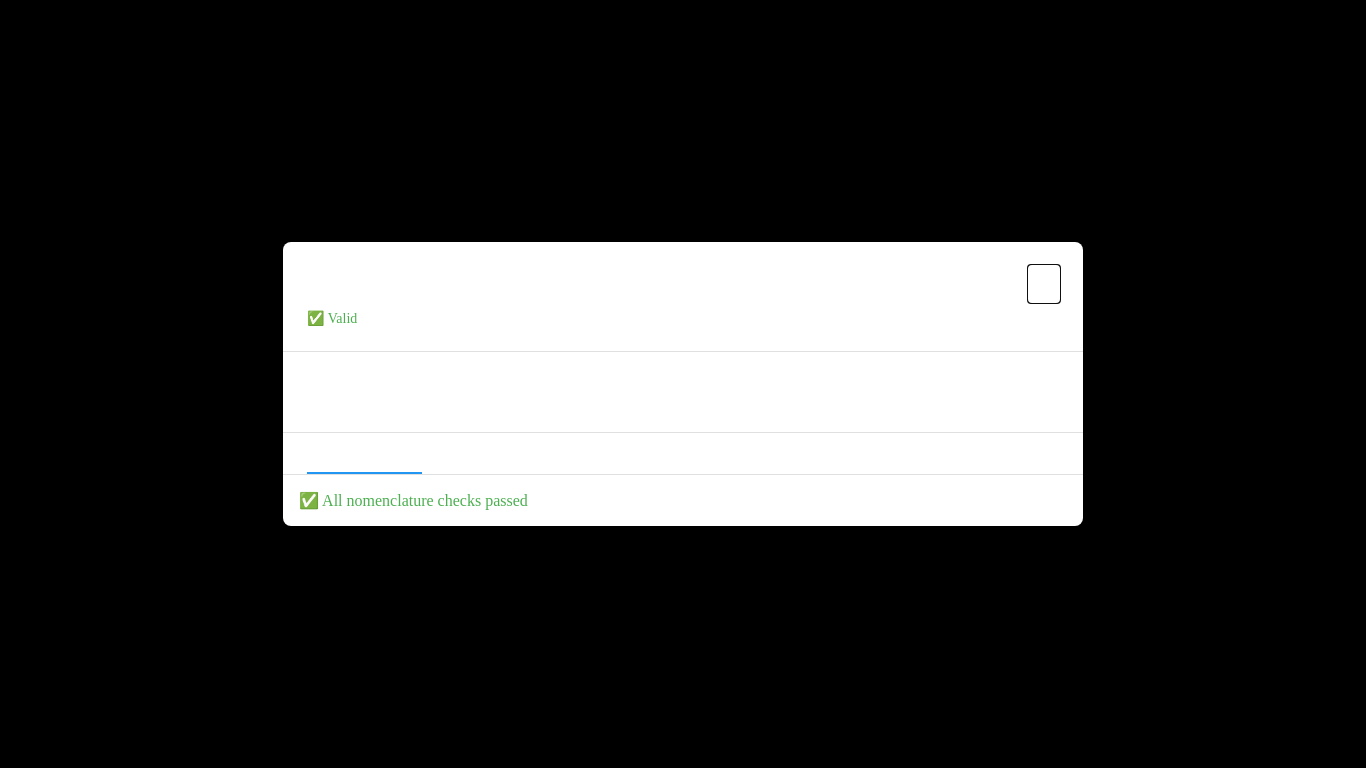
Test: ValidationReportModal › Happy Path › should render metadata table with key-value pairs
# Click on Metadata tab
Click the tab "Metadata".
click(556, 454)  # box [512, 433, 600, 474]
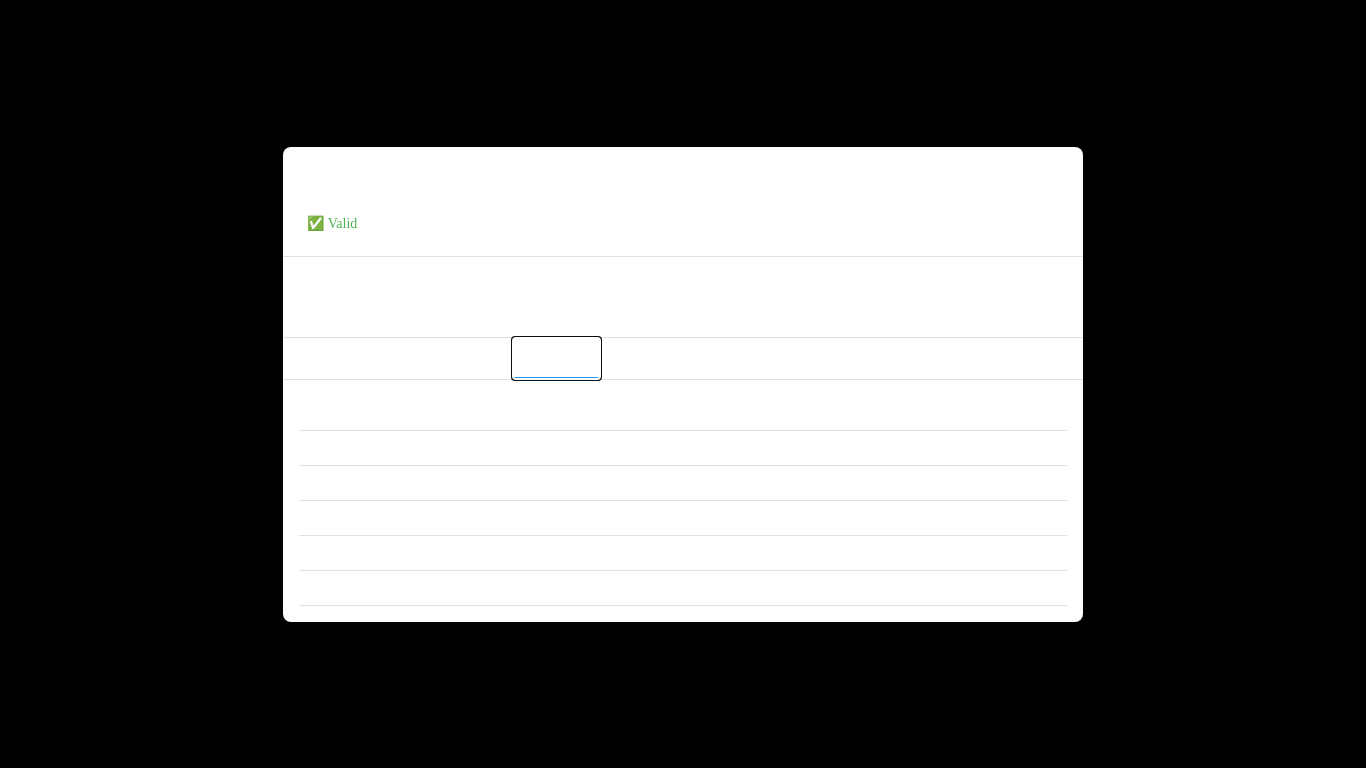
Now the text "total_objects" is shown, box [299, 396, 567, 430]
